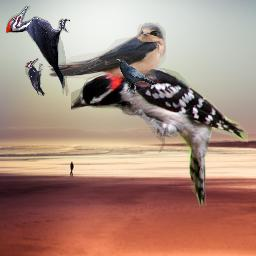Crow: (116, 59, 156, 92)
Swallow: (47, 22, 166, 87)
Woodpecker: (71, 64, 250, 210), (6, 6, 70, 96), (25, 58, 45, 96)
